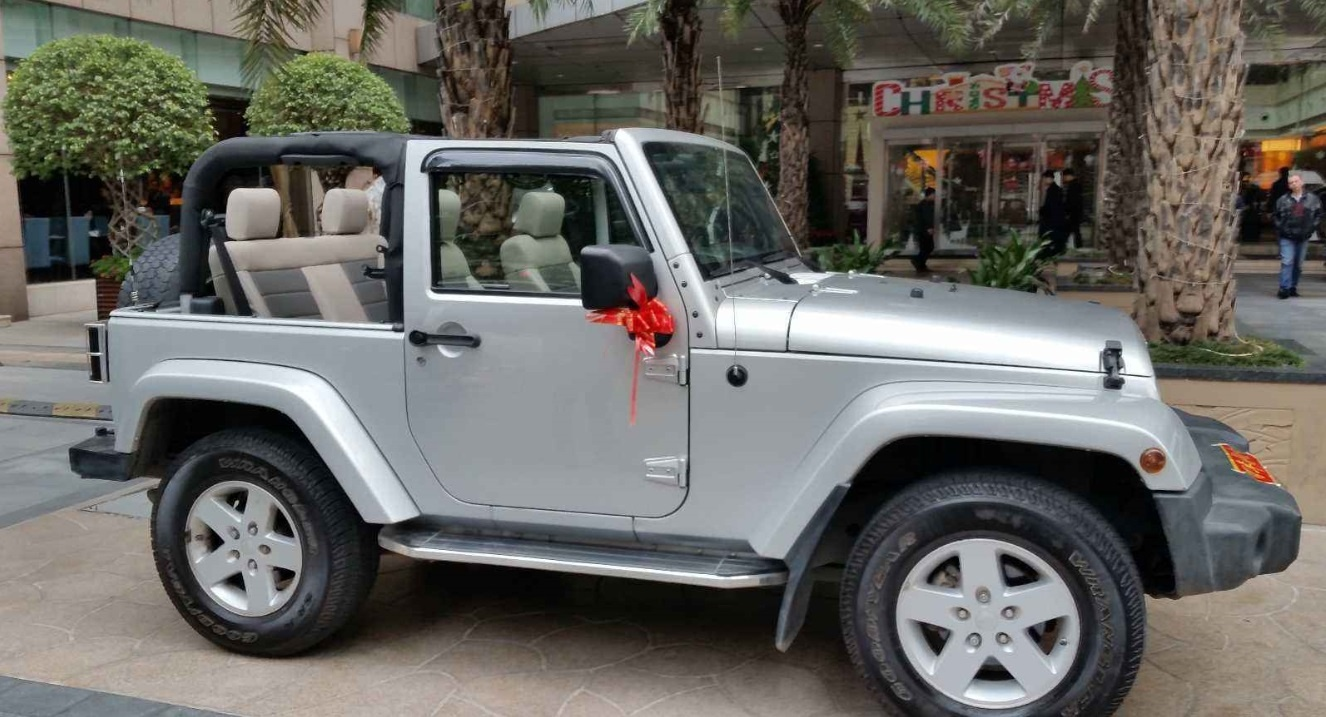jeep: (101, 113, 1301, 717)
